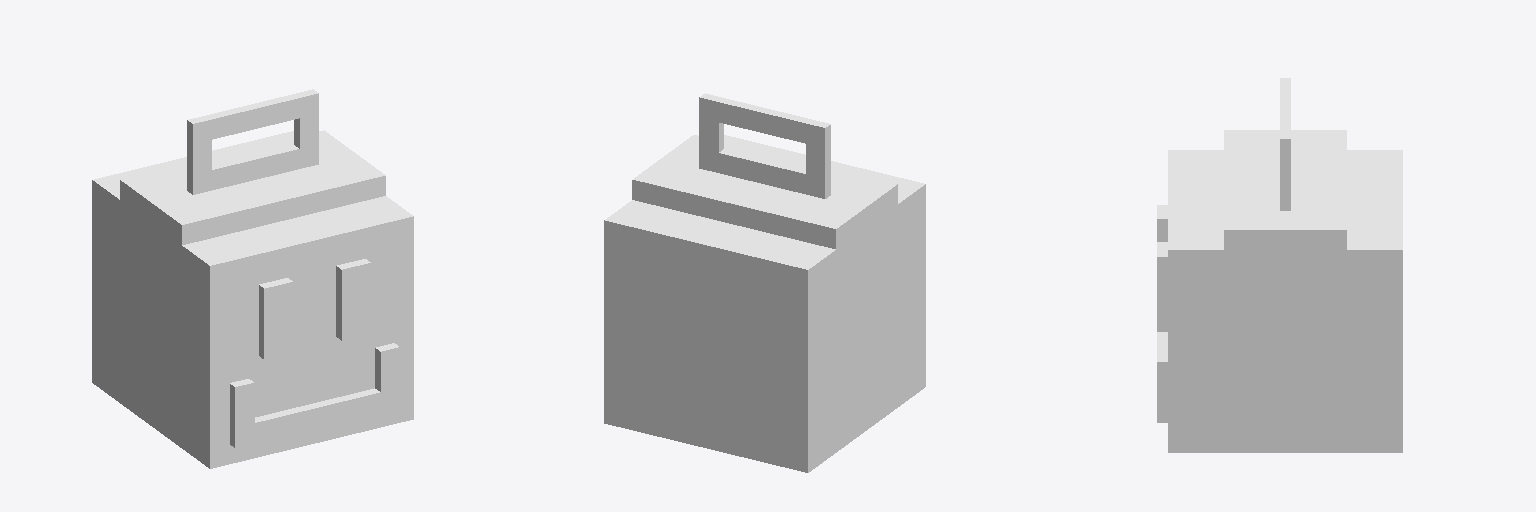
The model's file is BoxHappy.obj.
3 views of the same model, side by side, from view 1: azimuth 30°, elevation 25°; view 2: azimuth 150°, elevation 25°; view 3: azimuth 270°, elevation 25° (orthographic).
Bounding box in the file's own units: 21 × 29 × 22.